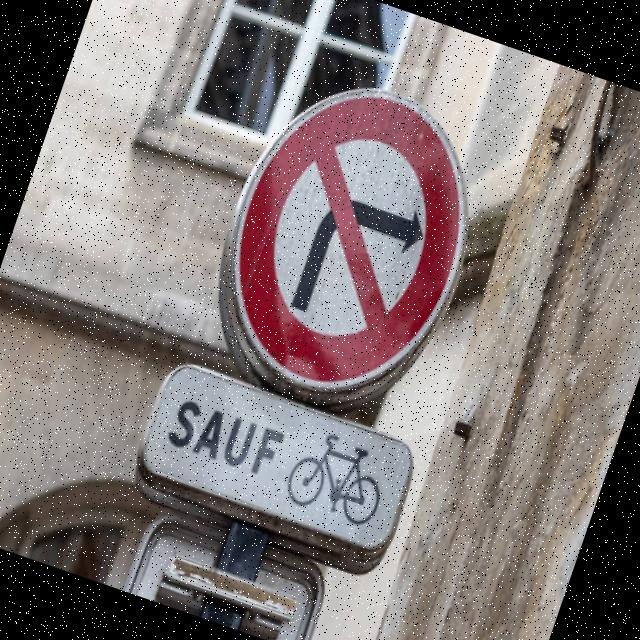do_not_turn_right: (182, 47, 510, 424)
